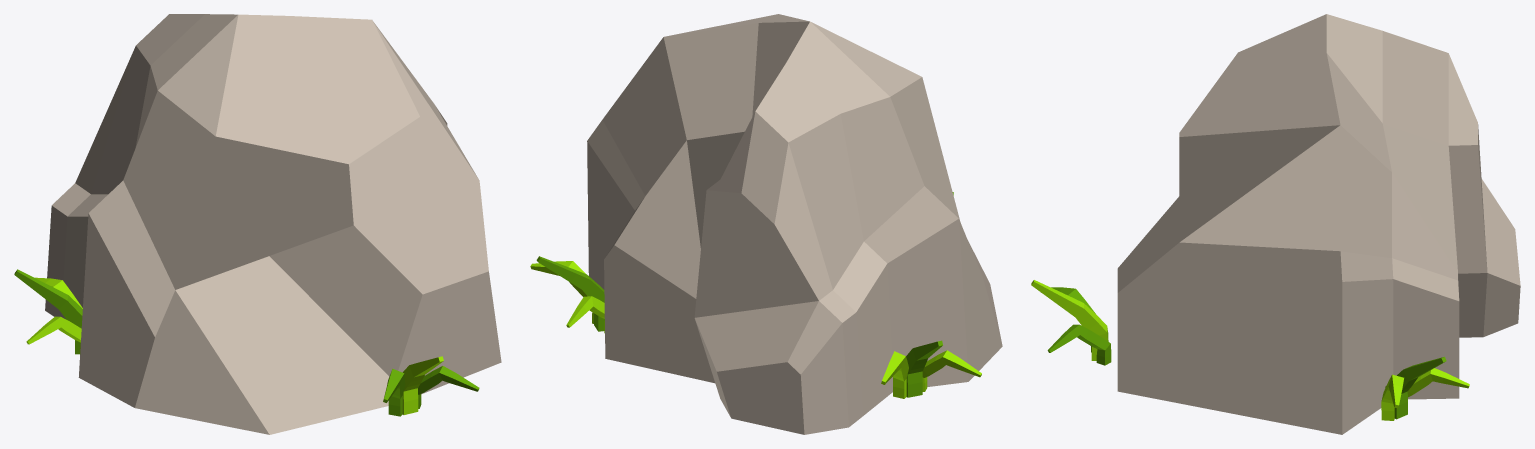
File: Batu.fbx
3 renders of one model, left to right at view 1: azimuth 30°, elevation 25°; view 2: azimuth 150°, elevation 25°; view 3: azimuth 270°, elevation 25°, orthographic.
Parts seen in each view (by area): view 1: Batu; view 2: Batu; view 3: Batu.
Part boxes in pixels (x1,y1,x2,y2): Batu: (14, 14, 501, 434); Batu: (530, 14, 1002, 434); Batu: (1031, 14, 1520, 434).
Size of the model in its own units: 110 by 77.89 by 109.
